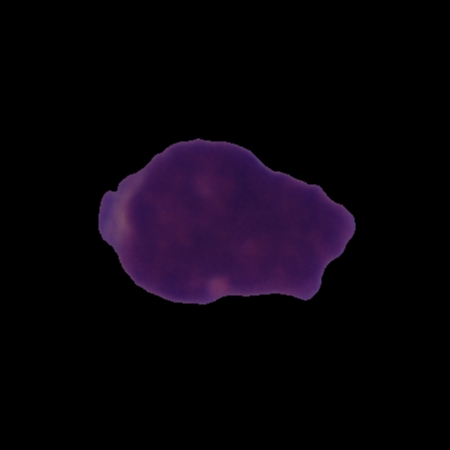ALL: (94, 135, 360, 309)
